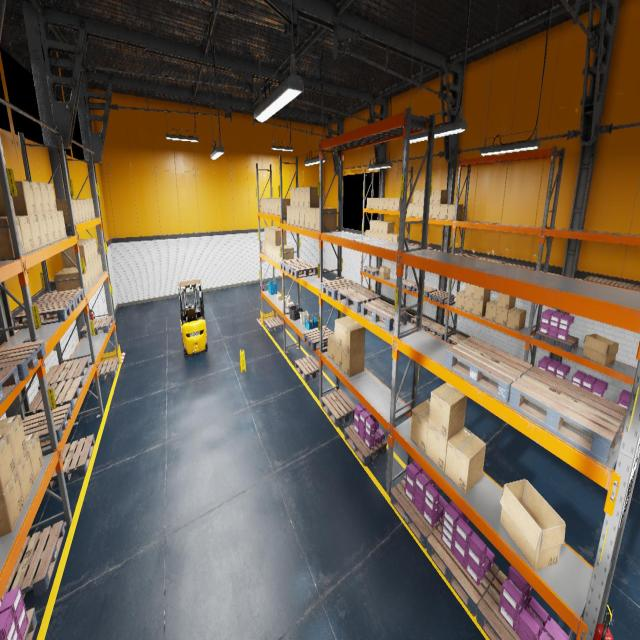box: (500, 478, 566, 570), (445, 427, 486, 494), (429, 382, 467, 440), (426, 424, 464, 472), (0, 470, 24, 536), (0, 414, 27, 468), (0, 180, 36, 215), (0, 216, 34, 253), (583, 334, 618, 366), (410, 399, 430, 454), (0, 216, 24, 258), (0, 432, 16, 493), (16, 450, 34, 504), (25, 432, 44, 482), (342, 322, 365, 354), (61, 243, 90, 268), (54, 270, 86, 292), (60, 266, 89, 290), (334, 316, 355, 347), (342, 348, 364, 377), (62, 199, 89, 220), (62, 199, 86, 221), (28, 215, 42, 250), (56, 200, 76, 224), (506, 307, 526, 331), (316, 208, 336, 231), (31, 182, 44, 214), (78, 238, 98, 258), (304, 187, 324, 207), (310, 207, 327, 230), (37, 214, 49, 246), (39, 182, 51, 214), (495, 306, 514, 326), (44, 213, 56, 243), (78, 240, 95, 260), (472, 298, 490, 316), (497, 292, 516, 309), (46, 183, 57, 212), (78, 241, 92, 263), (52, 212, 62, 241), (485, 300, 497, 322), (447, 204, 463, 220), (279, 246, 294, 262), (474, 286, 490, 301), (276, 245, 290, 262), (272, 230, 286, 246), (58, 211, 66, 238), (334, 342, 342, 369), (455, 290, 465, 310), (263, 198, 276, 213), (433, 190, 448, 203), (278, 199, 290, 215), (269, 228, 281, 244), (264, 226, 276, 242), (72, 200, 80, 223), (328, 333, 334, 362), (267, 228, 278, 243), (465, 282, 475, 298), (464, 296, 473, 313), (439, 204, 449, 219), (77, 200, 83, 222), (383, 222, 394, 234), (380, 266, 390, 279), (432, 204, 440, 218), (87, 264, 92, 286), (90, 260, 95, 282), (378, 221, 387, 233), (305, 208, 310, 229), (87, 199, 92, 219), (93, 259, 98, 279), (374, 220, 382, 232), (90, 199, 95, 218), (413, 190, 420, 203), (412, 204, 419, 217), (290, 188, 295, 206), (406, 204, 413, 216), (300, 207, 304, 227), (300, 187, 304, 207), (295, 187, 299, 207), (418, 204, 424, 217), (370, 220, 377, 231), (96, 257, 100, 276), (98, 254, 102, 273), (295, 207, 299, 226), (291, 207, 295, 225), (286, 206, 290, 224), (394, 198, 400, 210), (387, 233, 397, 240), (429, 190, 434, 203), (268, 198, 272, 214), (272, 245, 276, 260), (389, 198, 394, 210), (384, 198, 389, 210), (286, 302, 294, 309), (379, 198, 384, 209), (366, 198, 371, 209), (428, 205, 432, 218), (420, 190, 424, 203), (275, 198, 278, 214), (392, 234, 398, 242), (375, 198, 379, 209), (370, 198, 374, 209), (266, 198, 269, 212), (267, 242, 270, 256), (262, 240, 265, 253), (282, 300, 288, 306), (285, 295, 290, 302), (382, 233, 387, 240), (272, 198, 274, 214), (373, 232, 378, 238), (369, 231, 374, 237), (261, 198, 263, 212), (270, 244, 272, 258), (265, 242, 267, 256), (282, 296, 287, 301), (277, 294, 281, 300), (378, 233, 382, 239), (366, 230, 370, 236)
forklift: (178, 279, 208, 357)
pallets: (508, 366, 628, 463), (426, 522, 499, 616), (446, 336, 532, 402), (2, 520, 65, 600), (390, 478, 443, 548), (476, 571, 520, 639), (47, 434, 95, 489), (24, 376, 84, 417), (22, 404, 72, 448), (14, 298, 75, 330), (0, 339, 46, 381), (344, 423, 386, 466), (38, 357, 89, 390), (361, 299, 407, 331), (321, 388, 354, 426), (338, 286, 380, 312), (32, 288, 84, 308), (535, 330, 579, 352), (321, 278, 360, 300), (90, 357, 119, 384), (0, 365, 20, 404), (80, 315, 113, 338), (303, 326, 333, 350), (295, 355, 322, 381), (582, 276, 635, 289), (287, 262, 318, 278), (426, 322, 452, 340), (23, 608, 37, 639), (279, 258, 308, 272), (428, 290, 454, 304), (411, 316, 435, 331), (264, 316, 283, 332), (413, 285, 437, 297), (447, 334, 467, 346), (503, 263, 536, 270), (476, 257, 506, 264), (402, 279, 417, 291), (364, 266, 380, 276), (459, 254, 483, 258), (416, 246, 434, 250), (630, 285, 640, 292), (378, 295, 381, 299)
